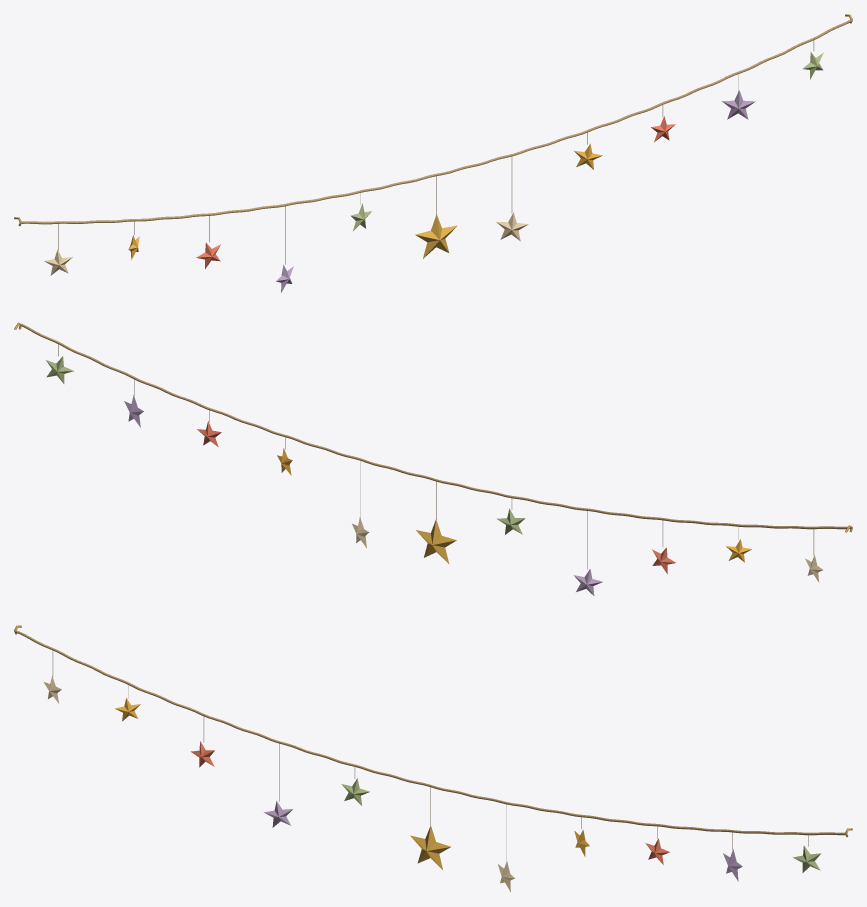
File: stars.glb
The picture shows the model from 3 angles, top to bottom: view 1: azimuth 30°, elevation 25°; view 2: azimuth 150°, elevation 25°; view 3: azimuth 330°, elevation 25°; orthographic projection.
Parts seen in each view (by area): view 1: stars_line, paper_05; view 2: stars_line, paper_05; view 3: stars_line, paper_05.
Boxes of the visible parts, x1,y1,x2,y2 form: stars_line: (14, 14, 852, 225); paper_05: (415, 214, 457, 258); stars_line: (14, 322, 852, 532); paper_05: (416, 520, 456, 563); stars_line: (14, 625, 852, 836); paper_05: (410, 825, 450, 869).
Bounding box in the file's own units: 4.85 × 0.7941 × 0.1024.
9 materials, 5 textured.
